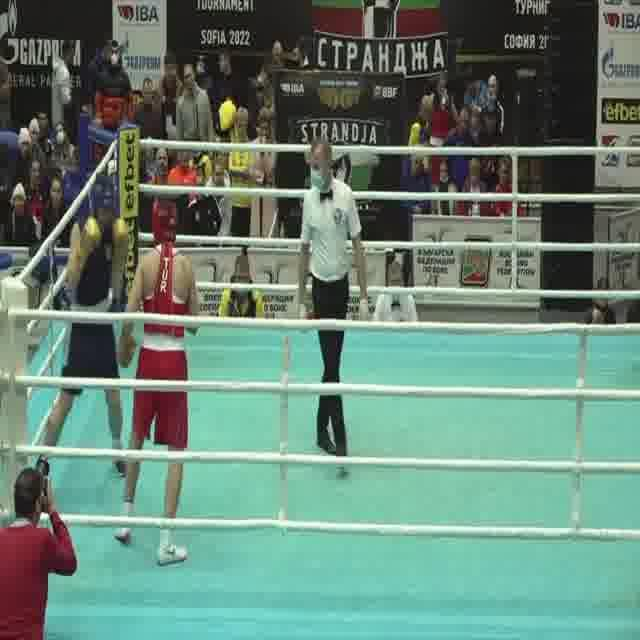blue-player: (31, 170, 132, 490)
red-player: (111, 192, 203, 570)
referee: (290, 134, 370, 478)
